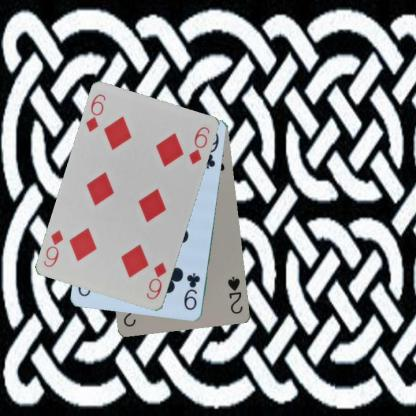2s: (226, 274, 244, 316)
6d: (83, 91, 108, 134), (144, 260, 168, 301)
9c: (181, 270, 202, 312)
